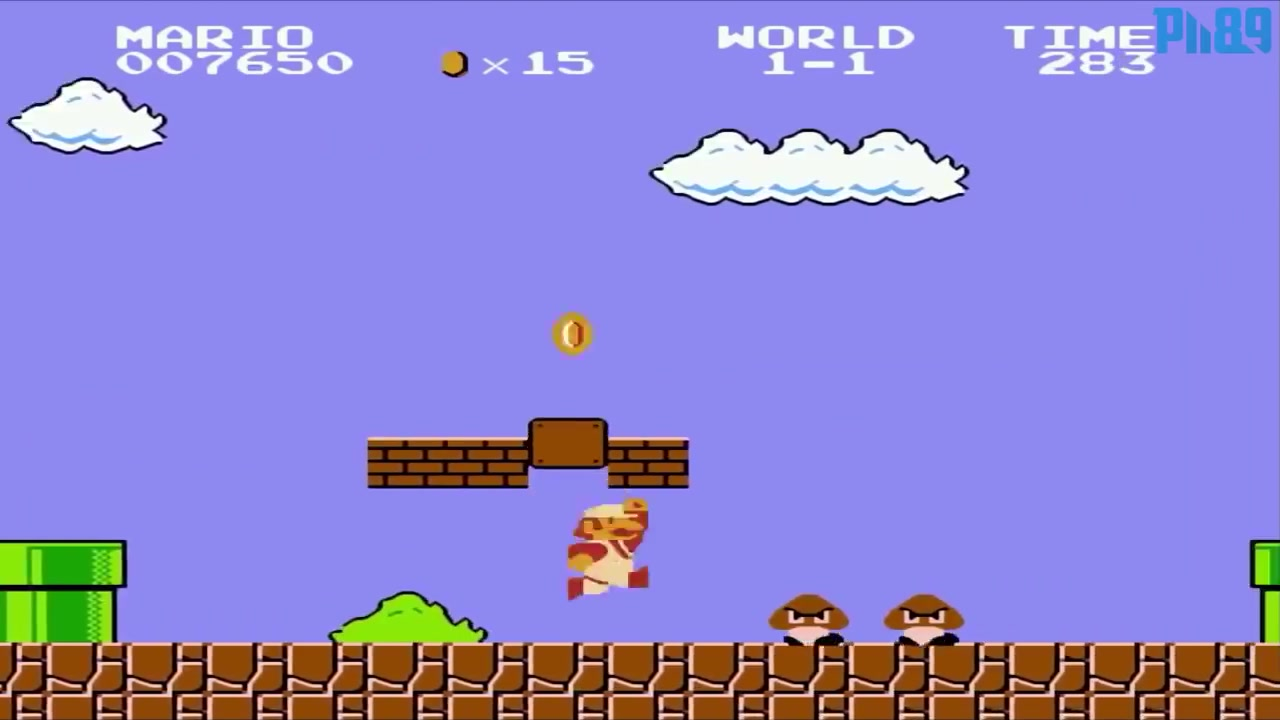mario: (554, 492, 667, 607)
